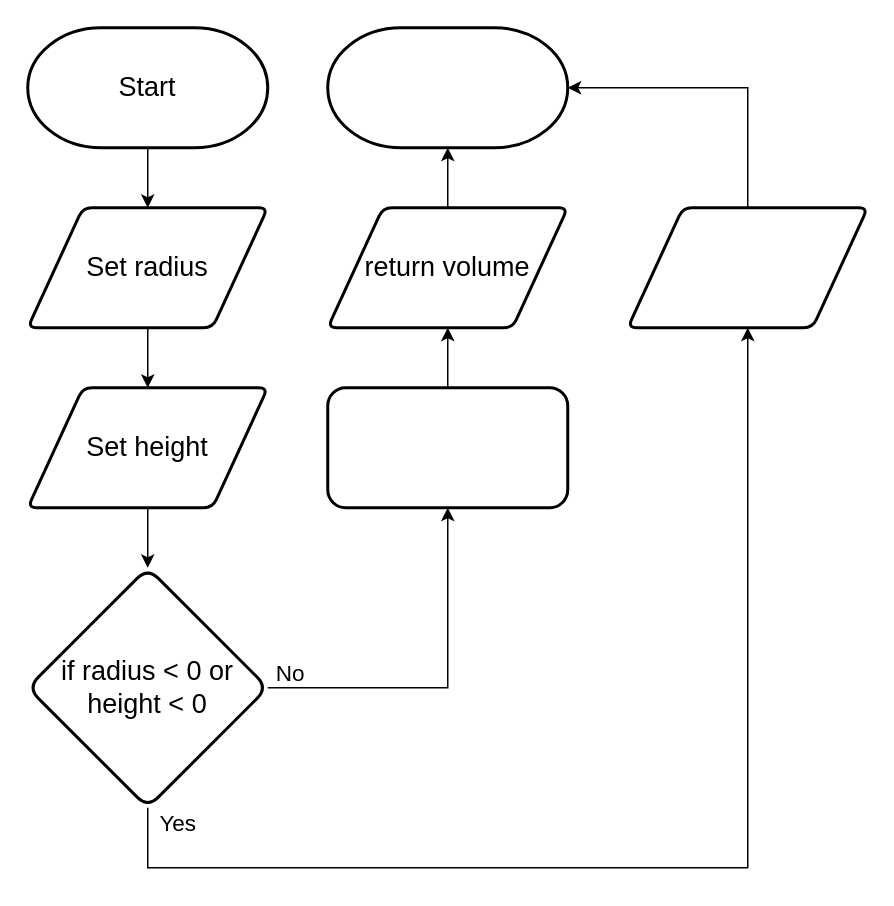
Some shapes in this 894 by 906 pixel diagram are drawn without their labels. The shapes that lost their labels are listed below. From the top down, each one's centre as x and y in pixels, then its label:
At pixel 447 87: "Stop".
At pixel 747 267: "return -1".
At pixel 447 447: "volume = math.pi * radius**2 * height".
